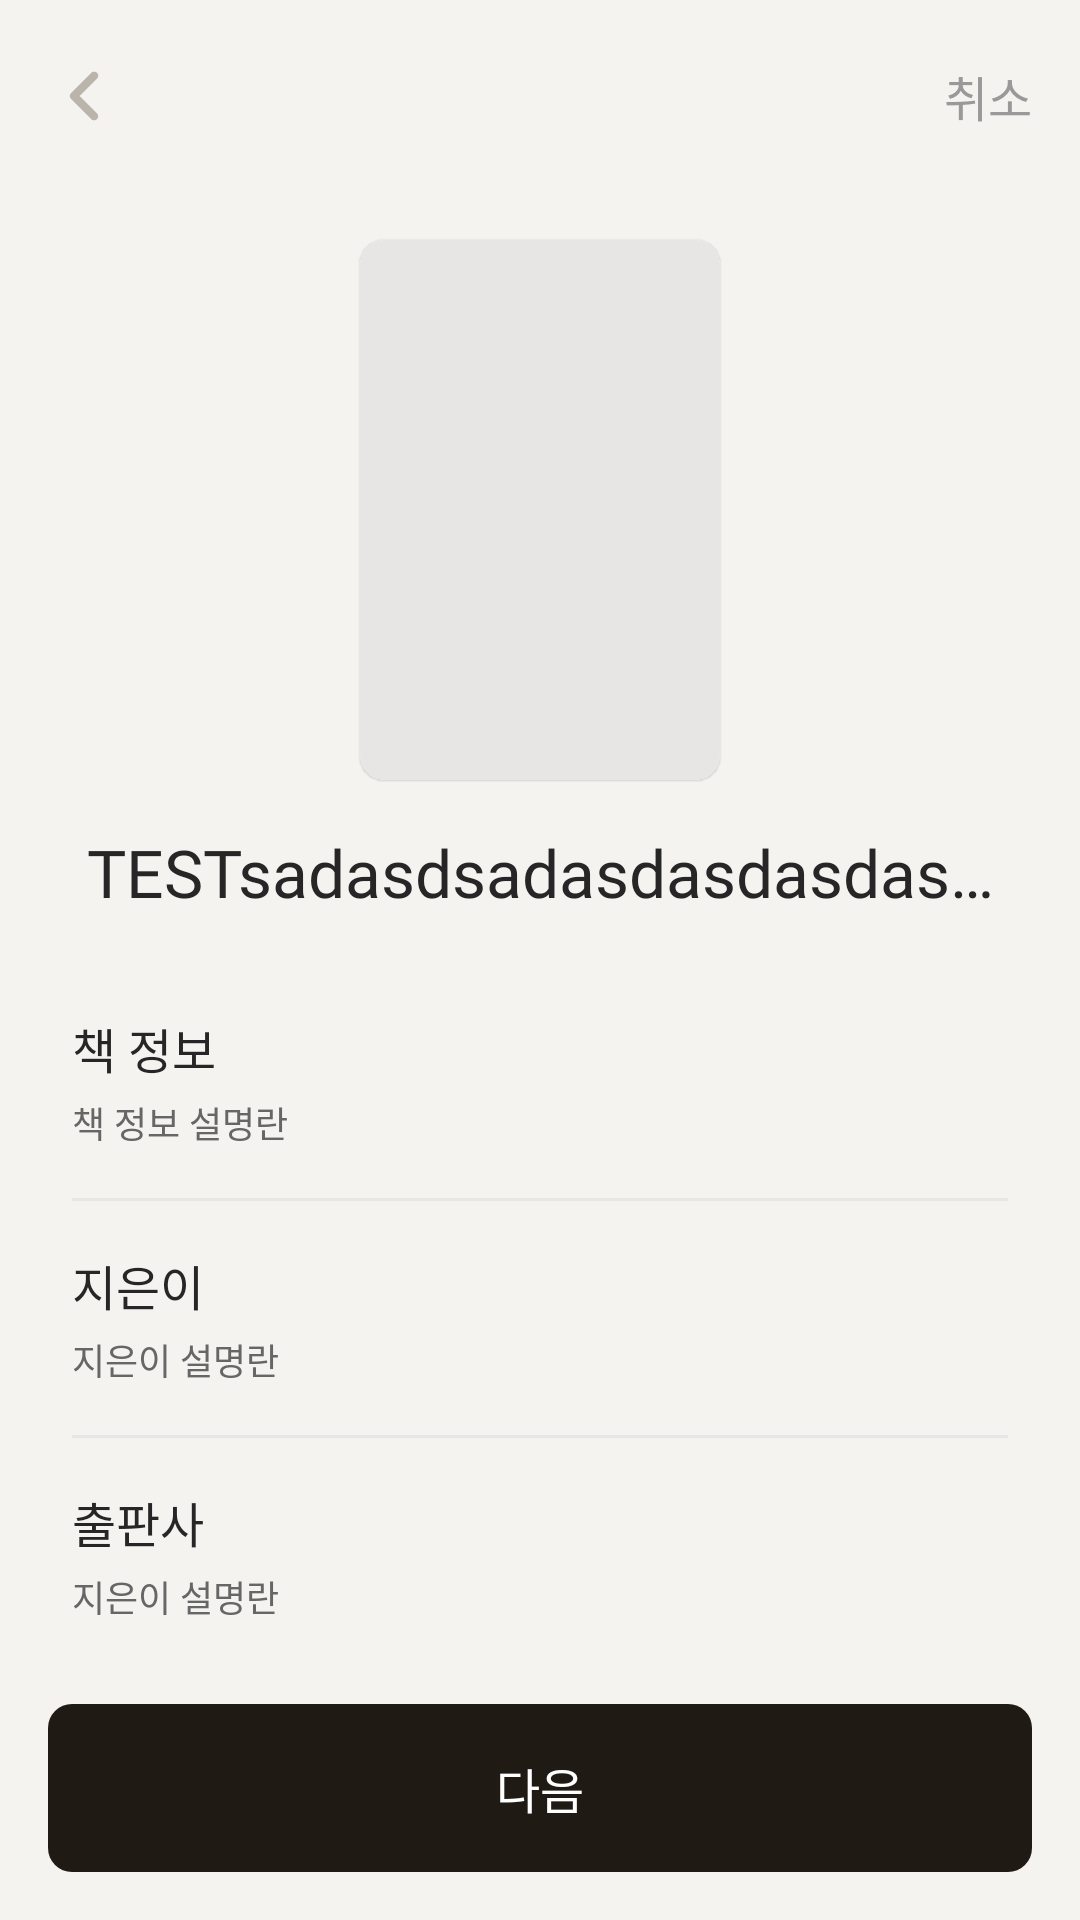

Locate icon controls on the screen. Image size 1080 × 1920, boxes as (x1, y1, x2, y2).
back: (70, 72, 98, 120)
